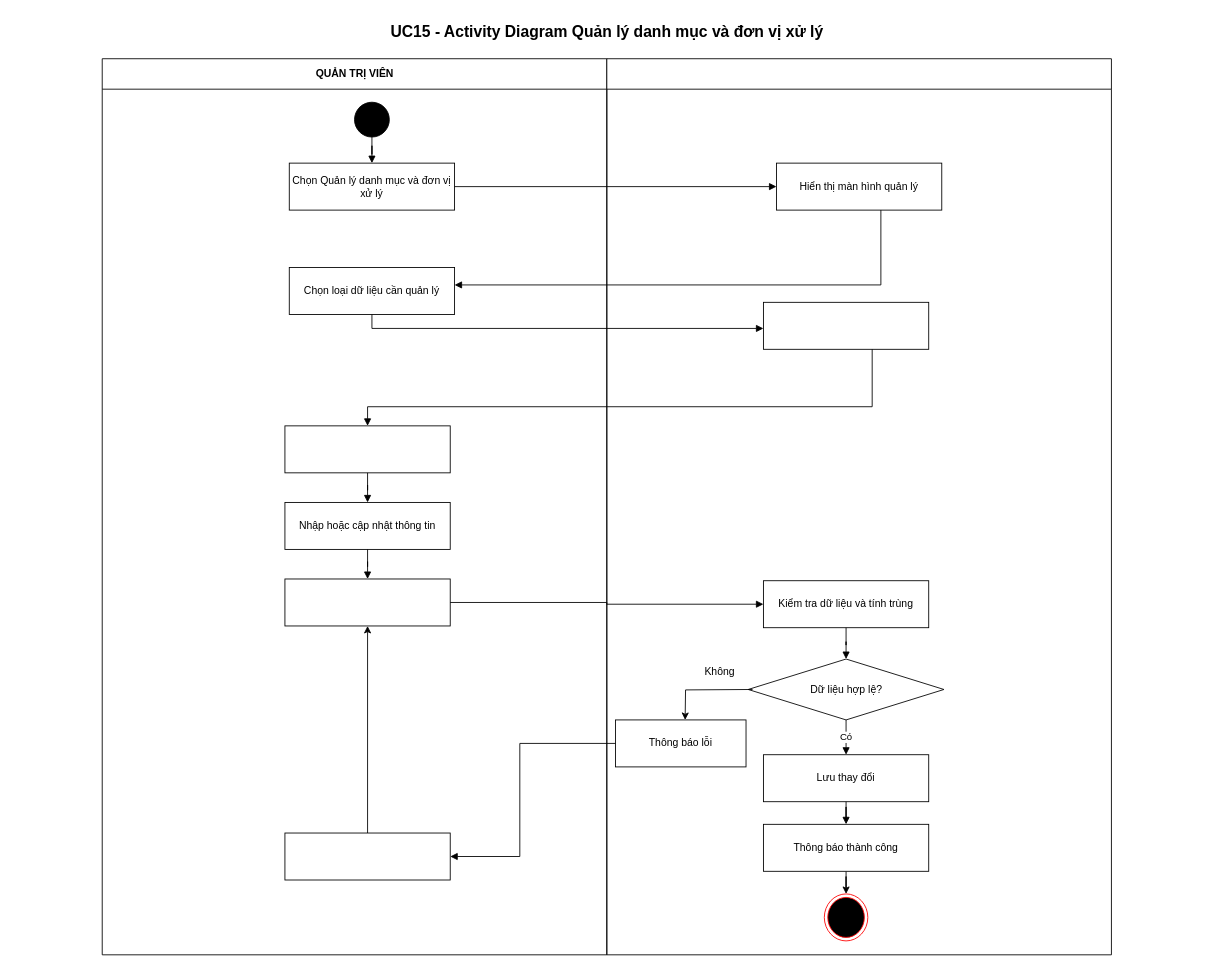
The diagram is 1213 pixels wide and 970 high, and some of its shapes have lost their labels. The box of each missing label's shape, as (x1, y1, x2, y2) in pixels:
Chỉnh sửa lại dữ liệu: (284, 832, 450, 880)
Chọn Lưu: (284, 578, 450, 626)
Chọn thêm mới / chỉnh sửa: (284, 425, 450, 473)
Hiển thị danh sách hiện có: (763, 301, 929, 349)
HỆ THỐNG: (606, 58, 1111, 955)
